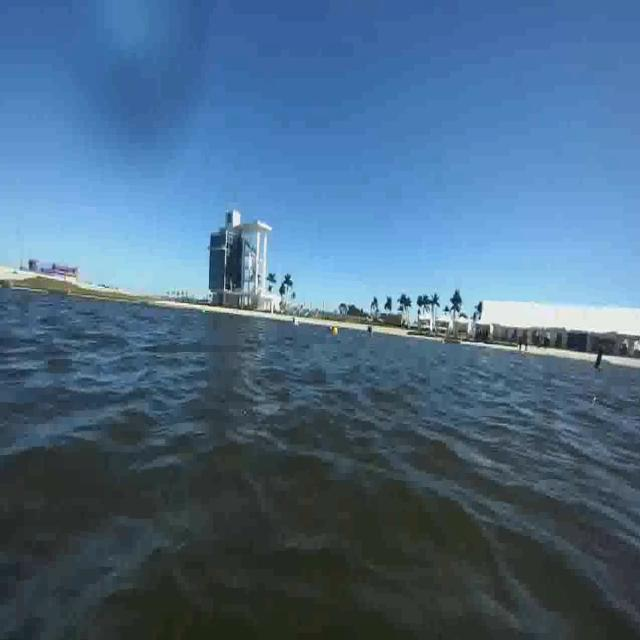yellow-buoy: (331, 323, 338, 337)
